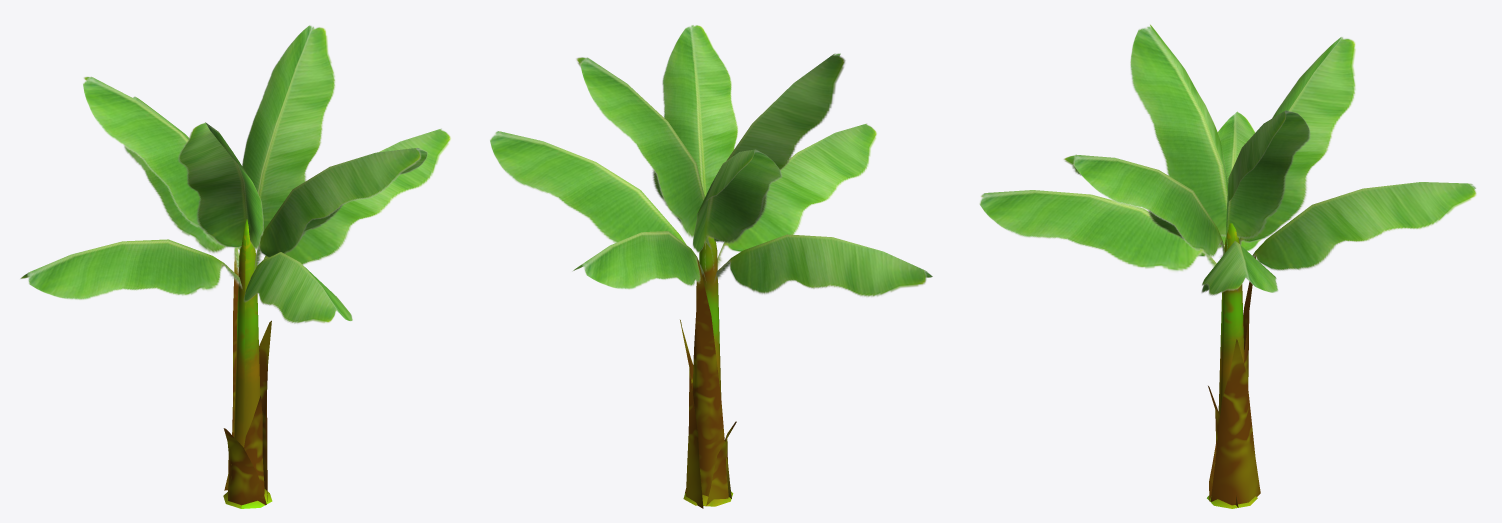
File: tree9.glb
3 renders of one model, left to right at view 1: azimuth 30°, elevation 25°; view 2: azimuth 150°, elevation 25°; view 3: azimuth 270°, elevation 25°, orthographic.
Parts seen in each view (by area): view 1: G_Leaf.007, G_Trunk, G_Leaf.001, G_Leaf.006, G_Leaf.005, G_Leaf, G_Leaf.003, G_Leaf.002, G_Leaf.004; view 2: G_Leaf.003, G_Leaf.001, G_Trunk, G_Leaf.006, G_Leaf.007, G_Leaf.002, G_Leaf.005, G_Leaf, G_Leaf.004; view 3: G_Leaf.002, G_Leaf.004, G_Leaf.005, G_Trunk, G_Leaf, G_Leaf.006, G_Leaf.007, G_Leaf.003, G_Leaf.001.
Boxes of the visible parts, left/top/right/bottom form: G_Leaf.007: left=242, top=25, right=335, bottom=239; G_Trunk: left=223, top=219, right=272, bottom=508; G_Leaf.001: left=20, top=239, right=242, bottom=300; G_Leaf.006: left=254, top=147, right=427, bottom=270; G_Leaf.005: left=178, top=122, right=263, bottom=250; G_Leaf: left=83, top=76, right=240, bottom=271; G_Leaf.003: left=263, top=128, right=451, bottom=265; G_Leaf.002: left=244, top=252, right=352, bottom=323; G_Leaf.004: left=124, top=96, right=239, bottom=275; G_Leaf.003: left=489, top=131, right=686, bottom=244; G_Leaf.001: left=714, top=234, right=932, bottom=297; G_Trunk: left=680, top=236, right=736, bottom=508; G_Leaf.006: left=662, top=24, right=738, bottom=196; G_Leaf.007: left=576, top=57, right=704, bottom=238; G_Leaf.002: left=717, top=123, right=877, bottom=269; G_Leaf.005: left=714, top=53, right=845, bottom=242; G_Leaf: left=692, top=149, right=782, bottom=268; G_Leaf.004: left=572, top=231, right=705, bottom=289; G_Leaf.002: left=979, top=190, right=1216, bottom=272; G_Leaf.004: left=1252, top=182, right=1476, bottom=270; G_Leaf.005: left=1130, top=24, right=1227, bottom=236; G_Trunk: left=1207, top=223, right=1260, bottom=508; G_Leaf: left=1239, top=36, right=1356, bottom=244; G_Leaf.006: left=1063, top=154, right=1225, bottom=257; G_Leaf.007: left=1226, top=110, right=1310, bottom=249; G_Leaf.003: left=1201, top=240, right=1278, bottom=295; G_Leaf.001: left=1218, top=111, right=1263, bottom=251.
Bounding box in the file's own units: 3.58 × 3.37 × 3.58.
Materials: 2 (2 with a texture image).
